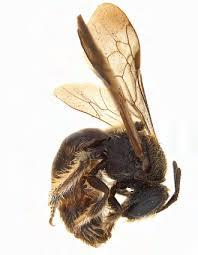Braunsapis: (32, 2, 192, 247)
